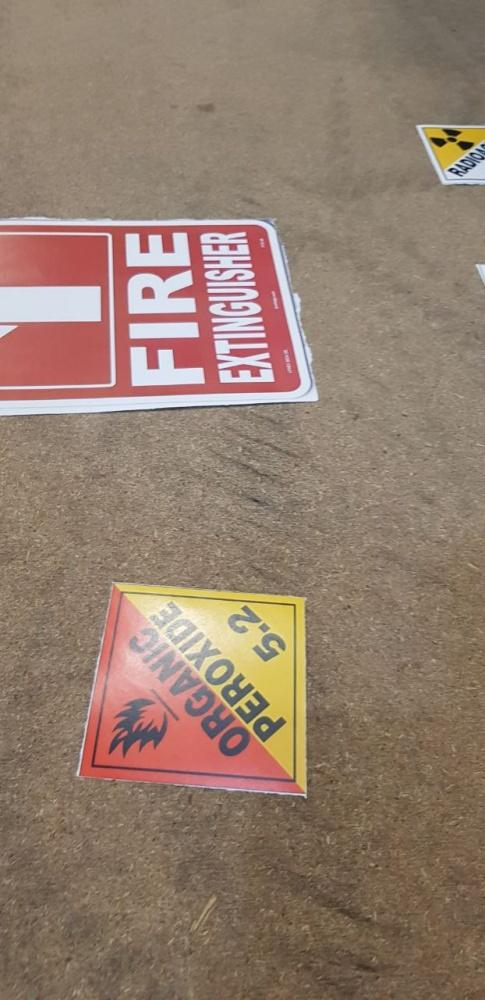organic-peroxide: (77, 581, 310, 799)
radioactive: (410, 119, 485, 190)
